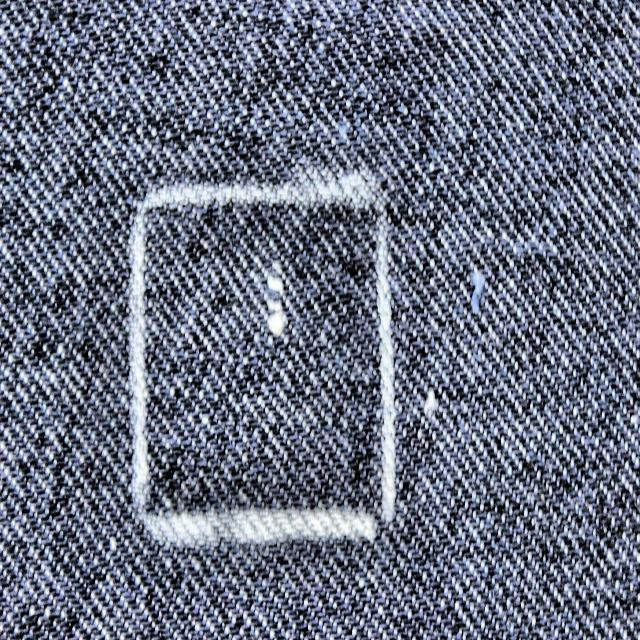cut: (265, 268, 284, 341)
